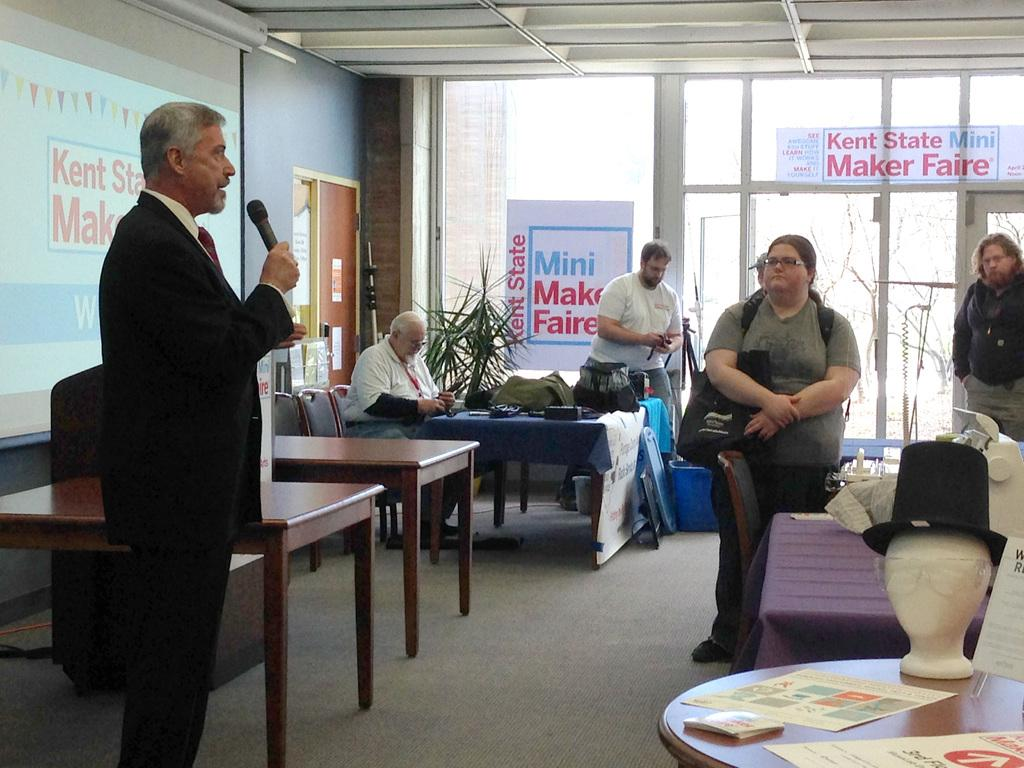Hat: (862, 441, 1006, 566), (745, 252, 764, 272)
